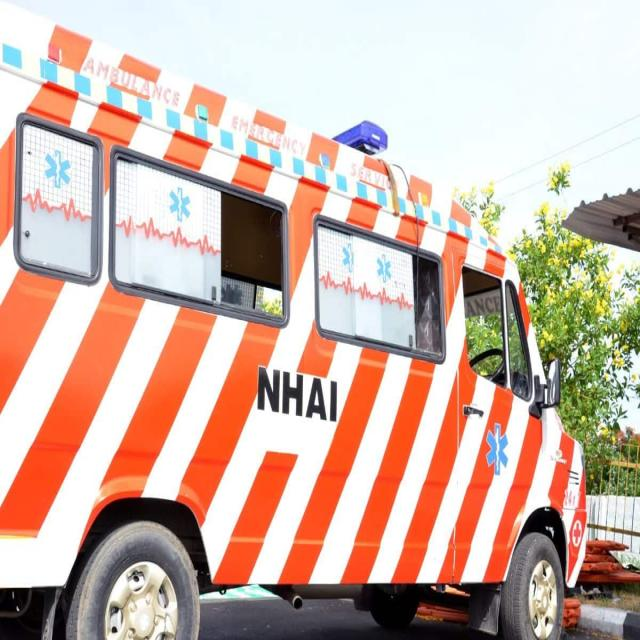emergency: (0, 7, 586, 639)
